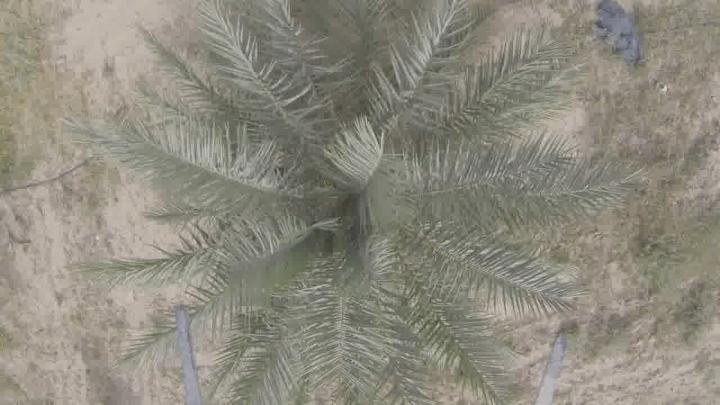Date-Palm-Crown: (210, 46, 530, 348)
